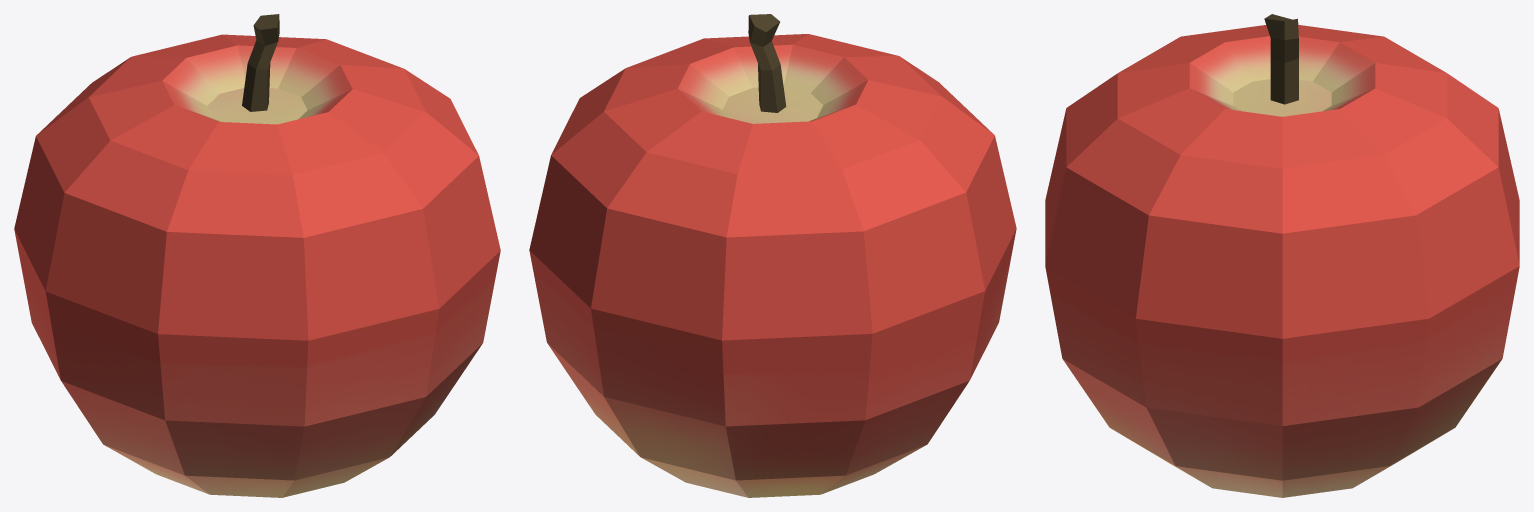
The model's file is apple01.fbx.
The picture shows the model from 3 angles, left to right: view 1: azimuth 30°, elevation 25°; view 2: azimuth 150°, elevation 25°; view 3: azimuth 270°, elevation 25°; orthographic projection.
Parts seen in each view (by area): view 1: apple1, pCylinder2; view 2: apple1, pCylinder2; view 3: apple1, pCylinder2.
Part boxes in pixels (x1,y1,x2,y2): apple1: (14,34,500,497); pCylinder2: (242,14,279,111); apple1: (529,34,1016,497); pCylinder2: (748,14,786,112); apple1: (1045,25,1519,497); pCylinder2: (1264,14,1298,104).
Size of the model in its own units: 13.48 by 13.76 by 12.82.
2 materials, 1 textured.
